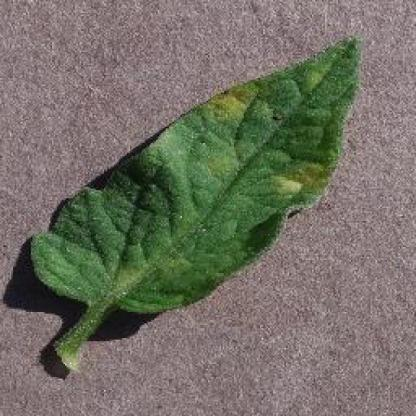Tomato_Leaf_Mold: (119, 33, 357, 317)
